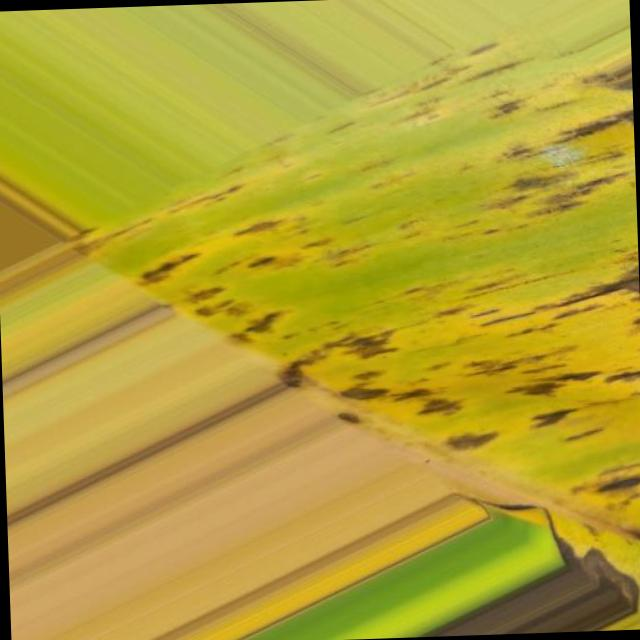Banana_Black_Sigatoka: (140, 186, 640, 532), (412, 14, 638, 262)
